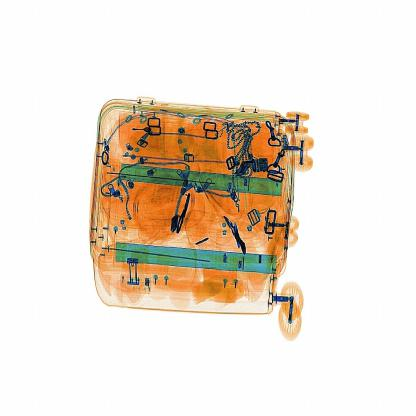wrench: (205, 205, 254, 263)
